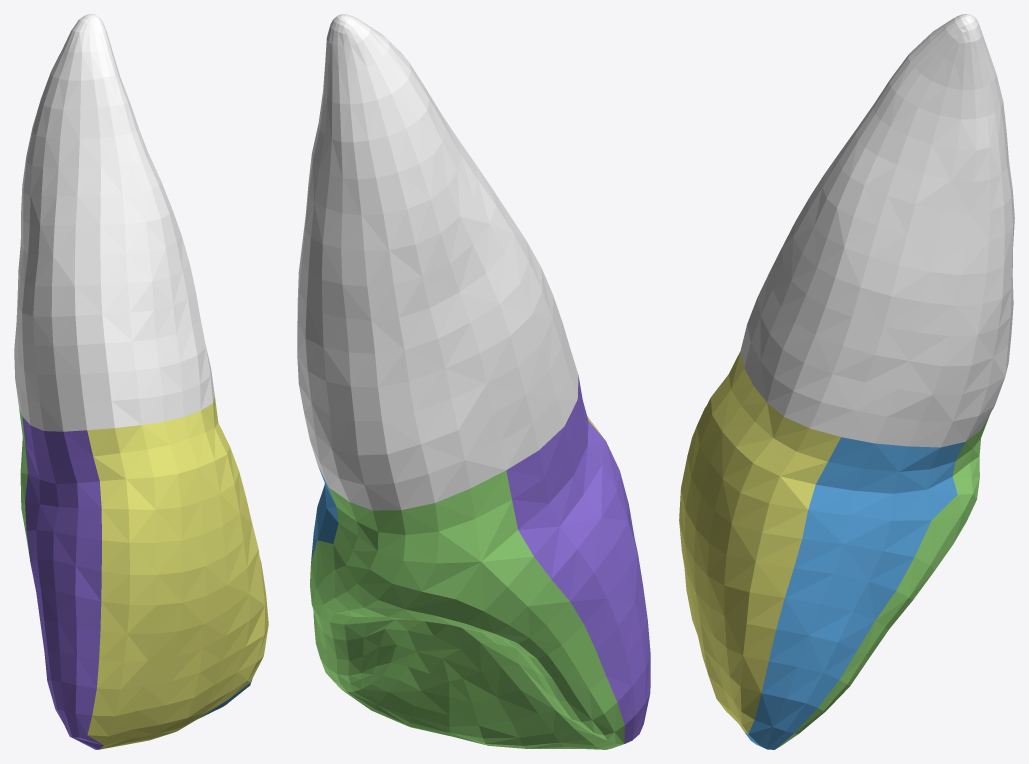
Rendered from tooth_21_annotated.glb.
3 views of the same model, side by side, from view 1: azimuth 30°, elevation 25°; view 2: azimuth 150°, elevation 25°; view 3: azimuth 270°, elevation 25° (orthographic). The views are drawn at different scales.
Visible parts, largest first — view 1: FDI_21; view 2: FDI_21; view 3: FDI_21.
Part boxes in pixels (x1=…): FDI_21: x1=14, y1=14, x2=268, y2=749; FDI_21: x1=297, y1=14, x2=650, y2=749; FDI_21: x1=679, y1=14, x2=1014, y2=749.
Bounding box in the file's own units: 0.0078 × 0.0212 × 0.00902.
